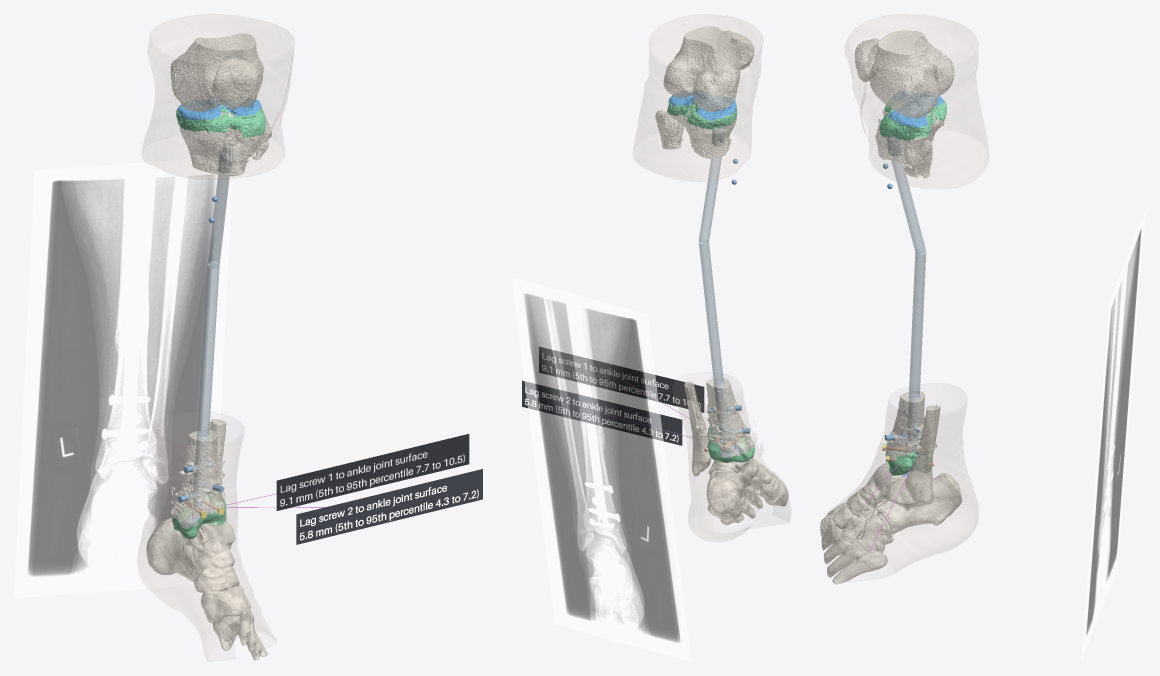
The picture shows the model from 3 angles, left to right: view 1: azimuth 30°, elevation 25°; view 2: azimuth 150°, elevation 25°; view 3: azimuth 270°, elevation 25°; orthographic projection. The views are drawn at different scales.
Visible parts, largest first — view 1: radiograph, skin, tarsal, implant_8, tibia, implant_16, femur, nail_modelled, patella, capsule_band_knee, metatarsal, nail (+3 smaller); view 2: radiograph, skin, femur, implant_17, implant_9, tibia, tarsal, nail_modelled, fibula, articular_surface_knee, metatarsal, capsule_band_knee (+3 smaller); view 3: skin, radiograph, tarsal, femur, tibia, fibula, nail_modelled, metatarsal, capsule_band_knee, articular_surface_knee, nail, patella (+1 smaller).
Boxes of the visible parts, <box> form: radiograph: <box>14,159,232,598</box>; skin: <box>137,14,294,660</box>; tarsal: <box>146,518,250,623</box>; implant_8: <box>276,434,469,510</box>; tibia: <box>172,108,263,539</box>; implant_16: <box>296,469,482,544</box>; femur: <box>170,33,263,111</box>; nail_modelled: <box>197,175,229,437</box>; patella: <box>211,57,259,109</box>; capsule_band_knee: <box>176,100,265,138</box>; metatarsal: <box>212,607,267,660</box>; nail: <box>193,145,233,509</box>; radiograph: <box>511,277,691,661</box>; skin: <box>633,14,790,541</box>; femur: <box>663,26,740,112</box>; implant_17: <box>522,380,682,445</box>; implant_9: <box>539,347,704,412</box>; tibia: <box>667,100,754,462</box>; tarsal: <box>706,442,779,519</box>; nail_modelled: <box>698,156,723,385</box>; fibula: <box>655,110,711,476</box>; articular_surface_knee: <box>669,90,736,120</box>; metatarsal: <box>720,477,788,525</box>; capsule_band_knee: <box>667,95,737,129</box>; skin: <box>827,14,988,572</box>; radiograph: <box>1081,210,1145,660</box>; tarsal: <box>824,462,962,551</box>; femur: <box>869,30,954,118</box>; tibia: <box>875,110,945,475</box>; fibula: <box>903,139,940,504</box>; nail_modelled: <box>891,160,926,398</box>; metatarsal: <box>820,517,887,584</box>; capsule_band_knee: <box>879,98,946,141</box>; articular_surface_knee: <box>888,90,944,127</box>; nail: <box>887,137,919,454</box>; patella: <box>854,38,879,82</box>.
Bounding box in the file's own units: 0.3195 × 0.5832 × 0.2937.
Materials: 15 (3 with a texture image).
